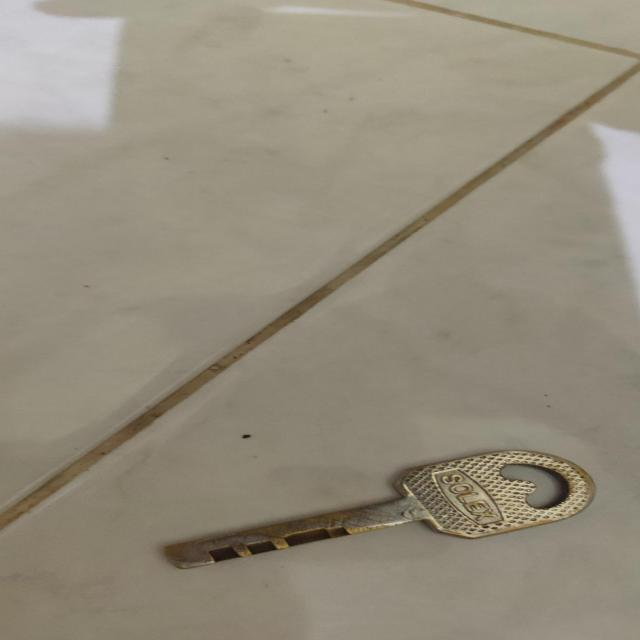kunci_pagar: (140, 437, 590, 586)
